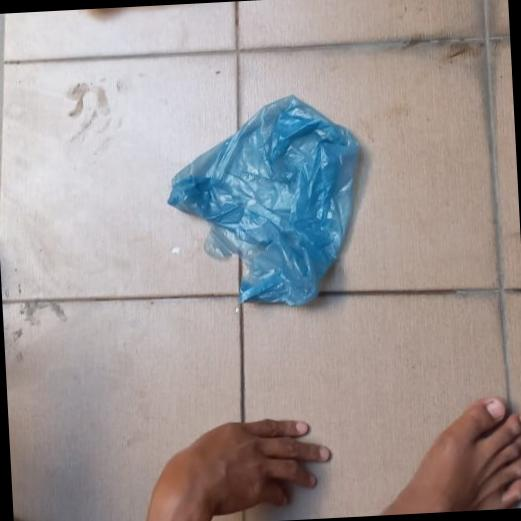Plastik: (160, 92, 367, 312)
